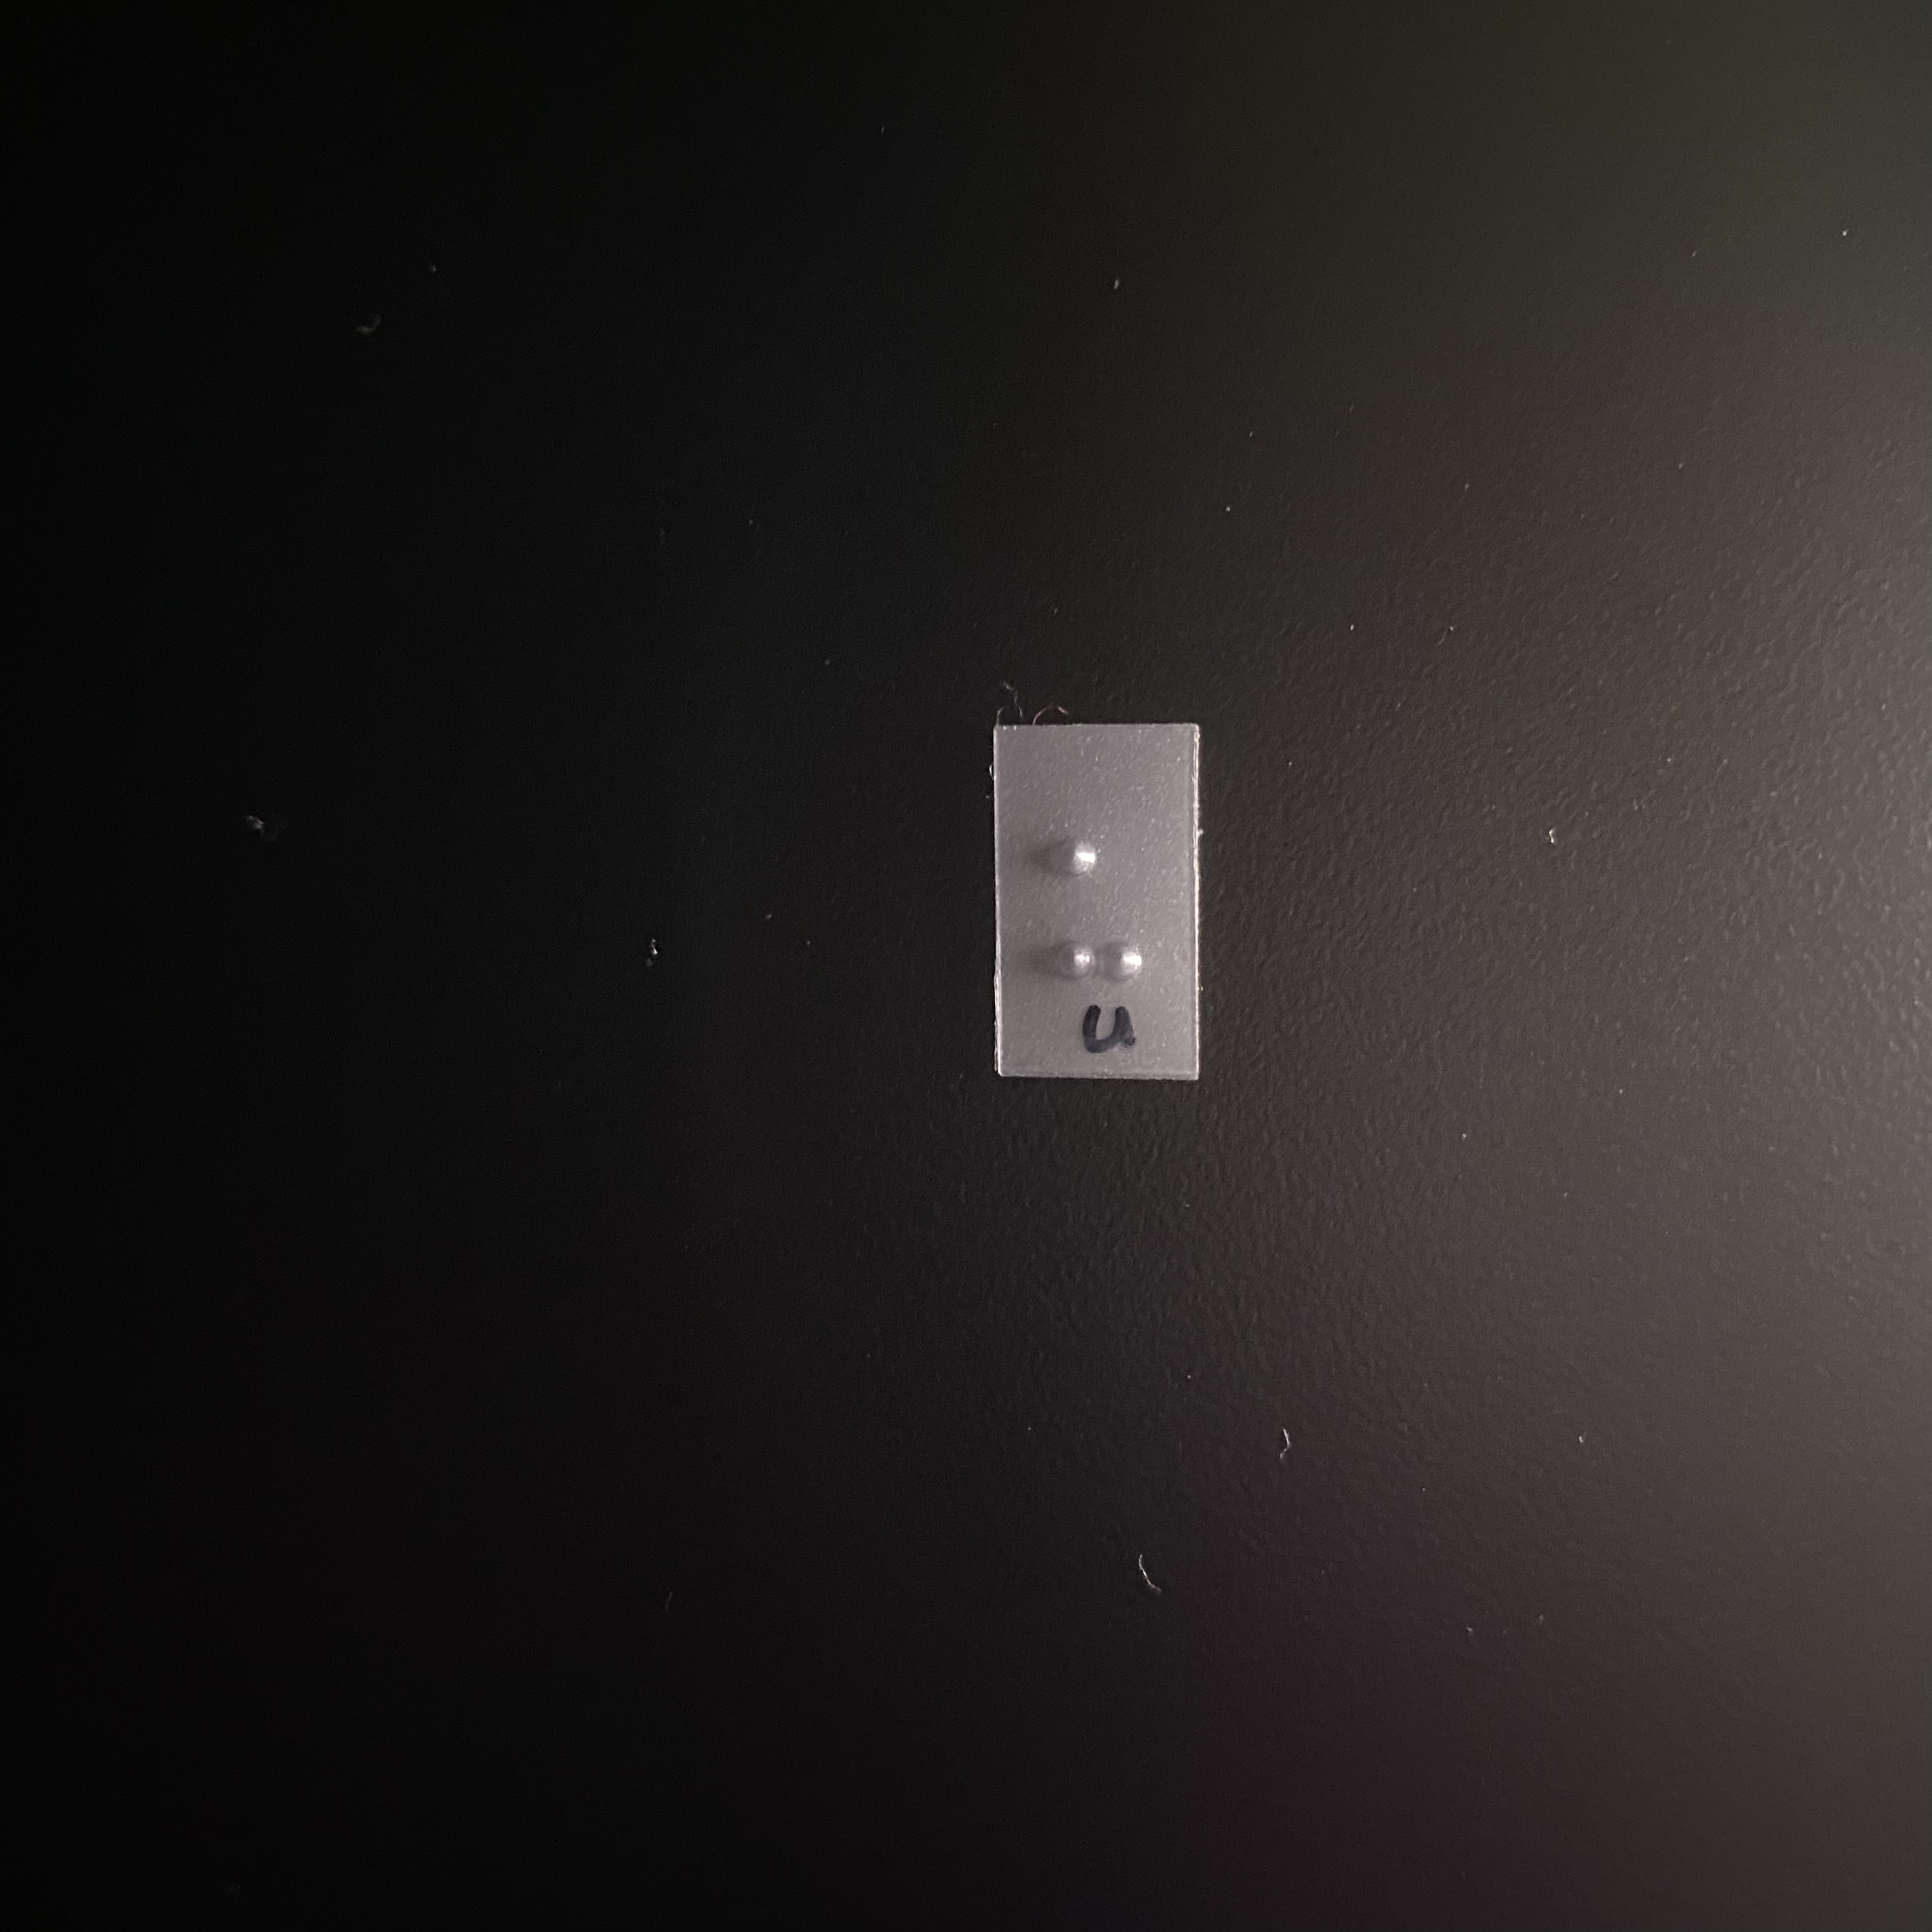u: (1025, 823, 1164, 1004)
